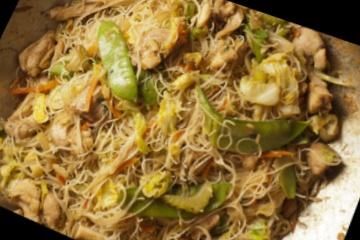pancit bihon: (0, 0, 338, 239)
